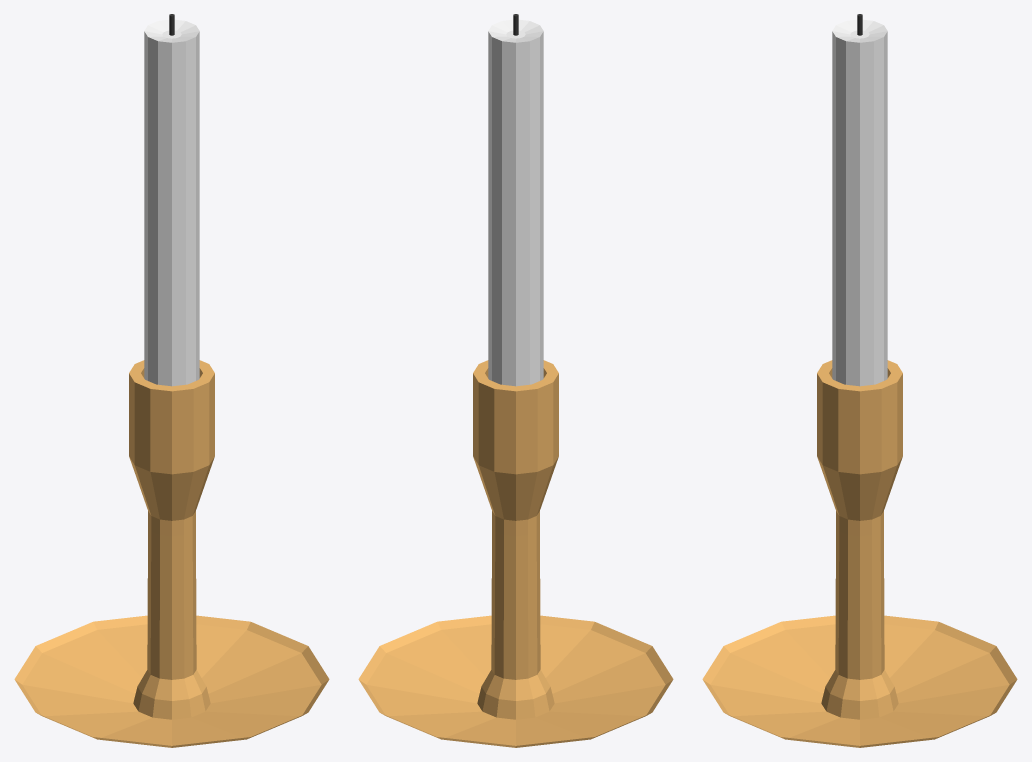
Rendered from Candle_Stand_Medium.fbx.
The picture shows the model from 3 angles, left to right: view 1: azimuth 30°, elevation 25°; view 2: azimuth 150°, elevation 25°; view 3: azimuth 270°, elevation 25°; orthographic projection.
Parts seen in each view (by area): view 1: Candle_Medium; view 2: Candle_Medium; view 3: Candle_Medium.
Boxes of the visible parts, box(x1,y1,x2,y2) form: Candle_Medium: box(14, 14, 329, 747); Candle_Medium: box(358, 14, 673, 747); Candle_Medium: box(702, 14, 1017, 747).
Size of the model in its own units: 0.0685 by 0.1652 by 0.0685.
